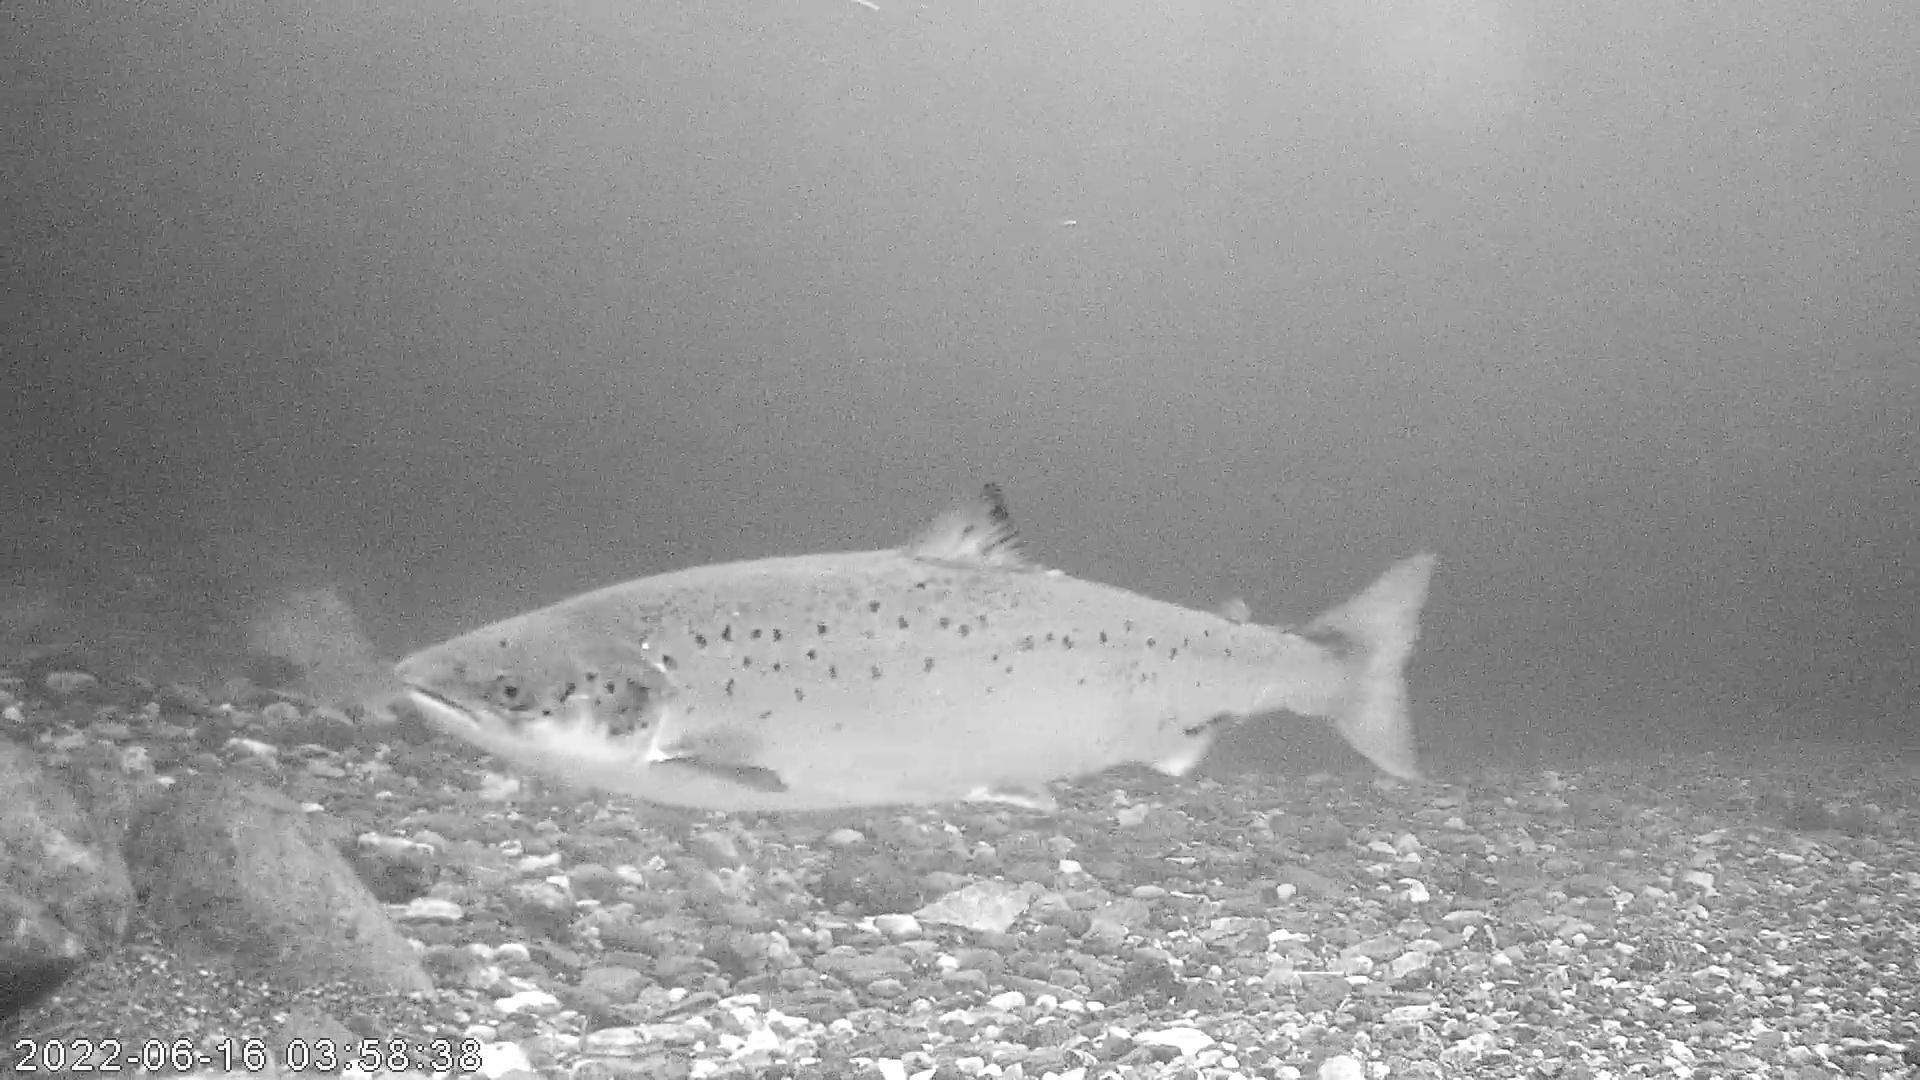salmon: (388, 477, 1443, 815)
